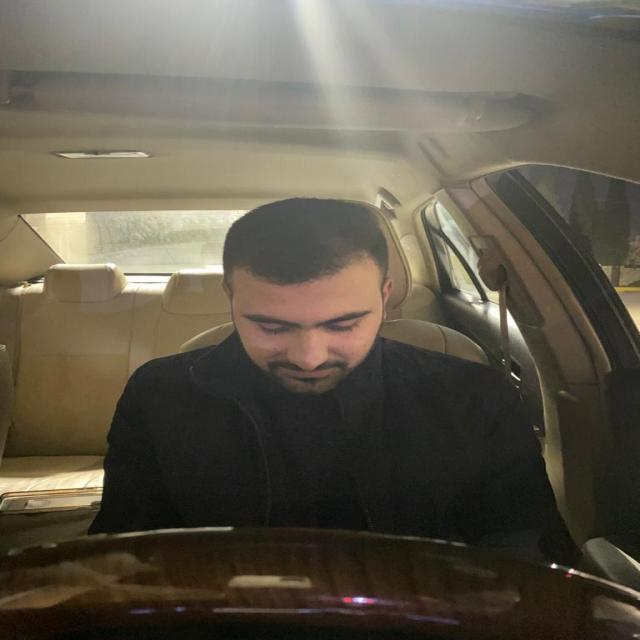drowsy: (208, 200, 407, 407)
